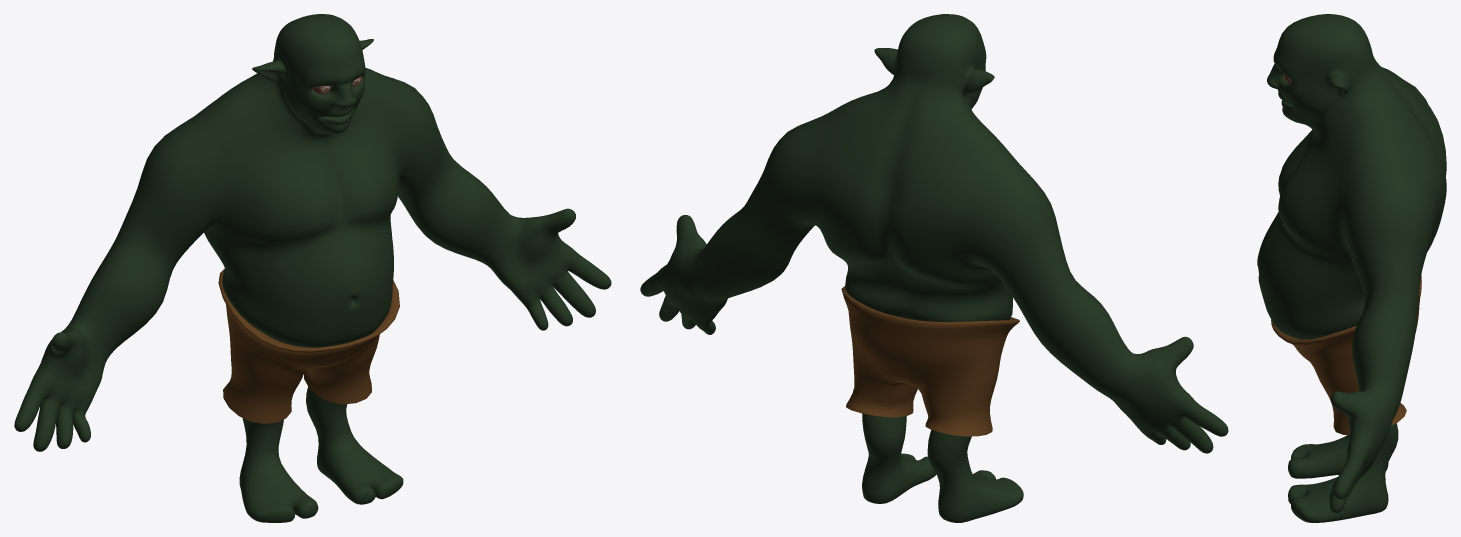
The model's file is Troll.fbx.
3 renders of one model, left to right at view 1: azimuth 30°, elevation 25°; view 2: azimuth 150°, elevation 25°; view 3: azimuth 270°, elevation 25°, orthographic.
Visible parts, largest first — view 1: Troll.001; view 2: Troll.001; view 3: Troll.001.
Part boxes in pixels (<box>): Troll.001: <box>14,14,611,522</box>; Troll.001: <box>640,14,1228,522</box>; Troll.001: <box>1257,14,1446,522</box>.
Bounding box in the file's own units: 967 × 743 × 272.
